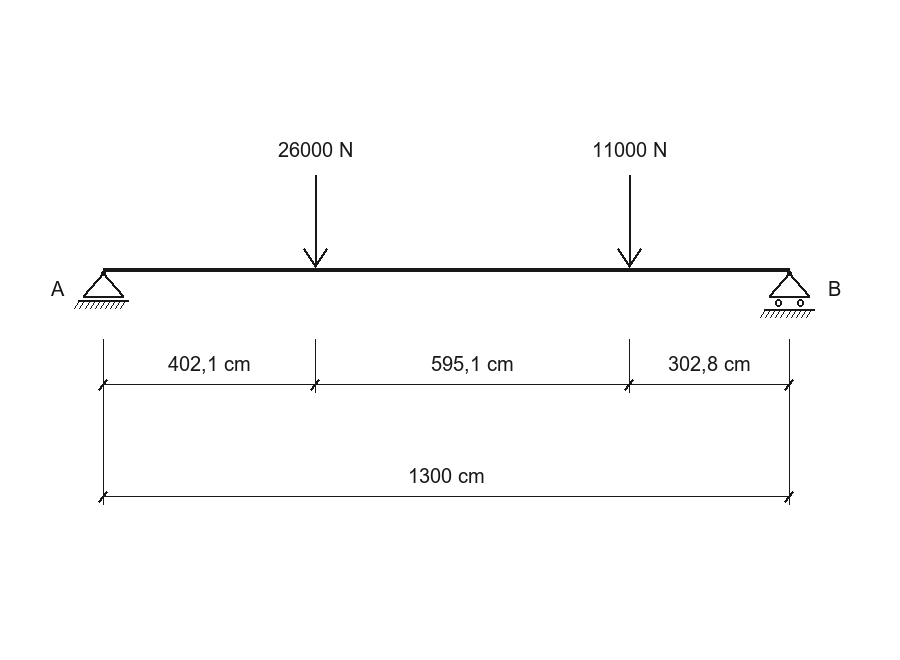pin_support: (74, 271, 129, 309)
point_load: (303, 175, 328, 268), (617, 175, 642, 268)
roller_support: (760, 271, 815, 318)
